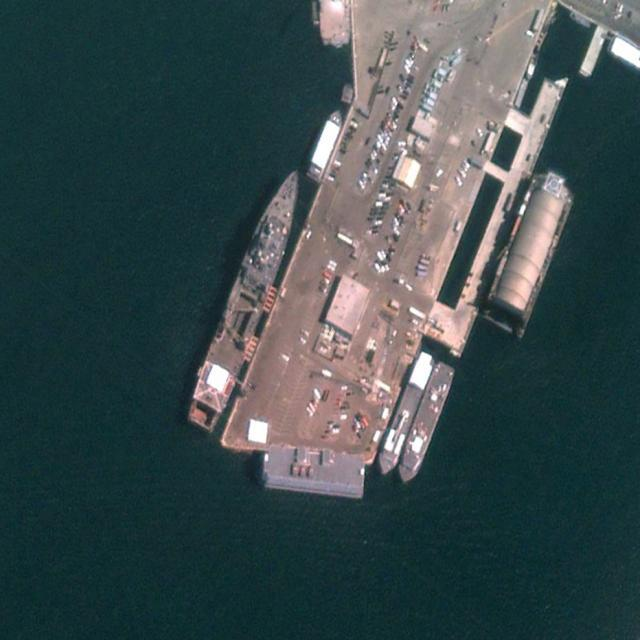Other Ship: (181, 161, 314, 435), (394, 357, 457, 488), (374, 348, 435, 479), (304, 103, 347, 184)
